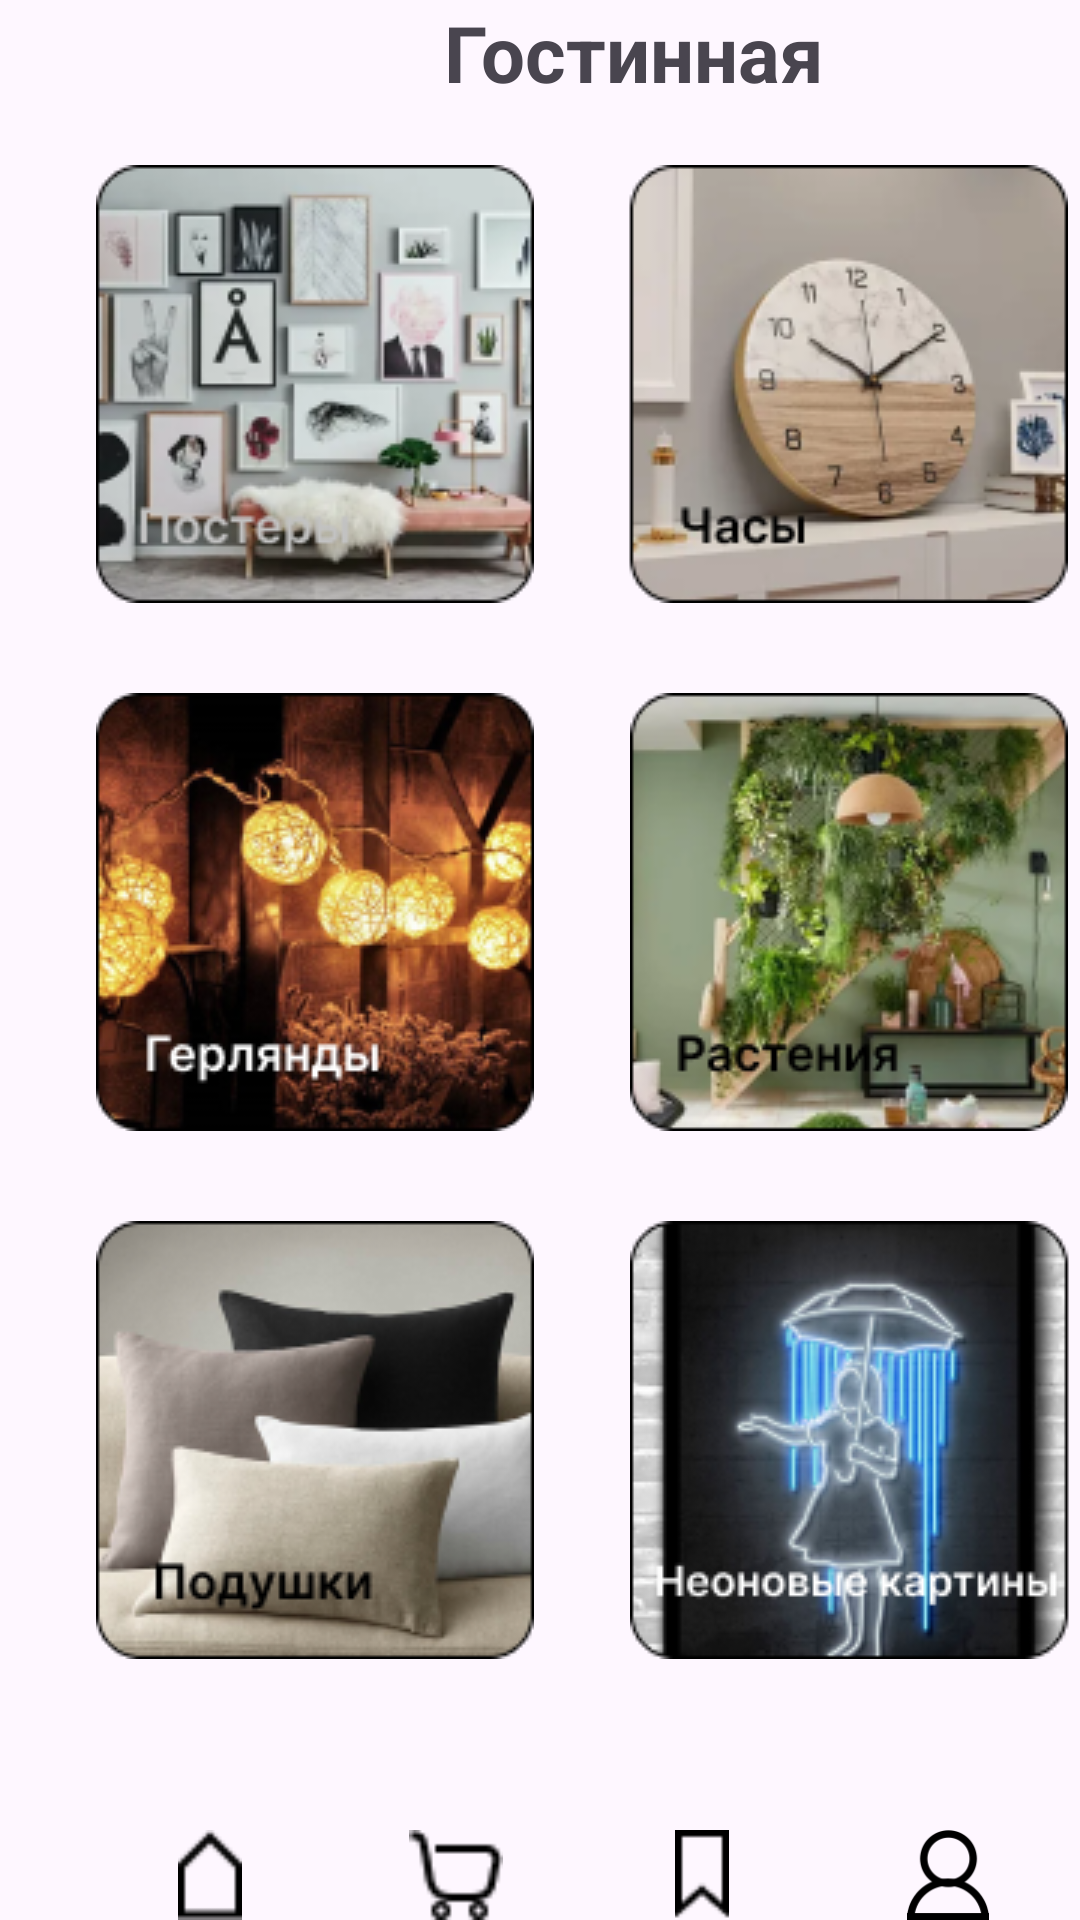

Named icons in this screenshot (1080×1920) and their bounding boxes, (x1, y1, x2, y2):
cart: (409, 1830, 503, 1920)
favorites: (675, 1830, 729, 1918)
home: (178, 1830, 242, 1920)
user: (907, 1830, 989, 1920)
